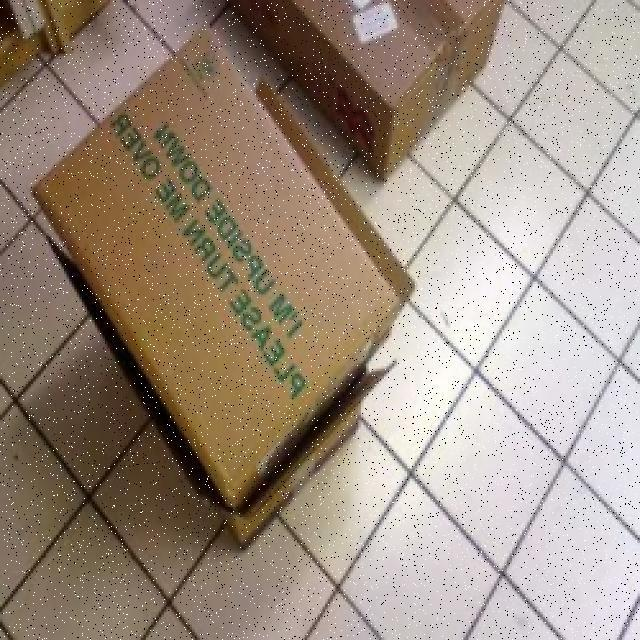box: (26, 70, 420, 540), (223, 0, 505, 143)
